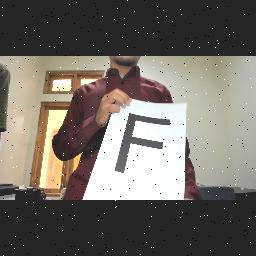f: (110, 110, 172, 178)
